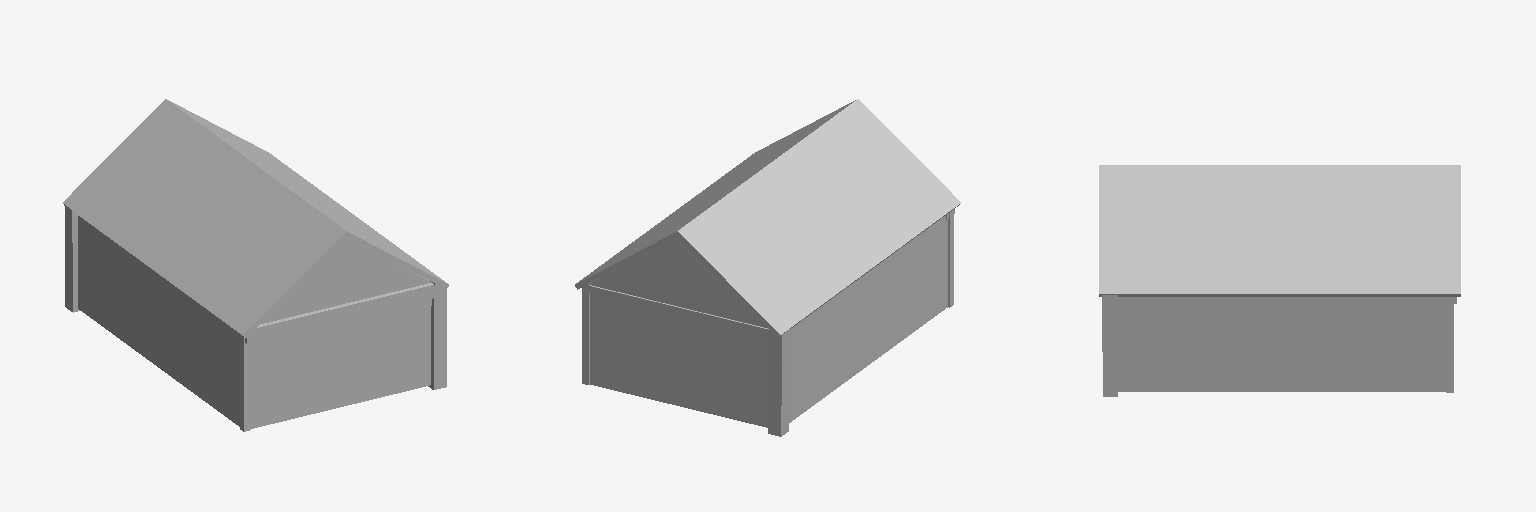
The model's file is house_2.obj.
3 views of the same model, side by side, from view 1: azimuth 30°, elevation 25°; view 2: azimuth 150°, elevation 25°; view 3: azimuth 270°, elevation 25° (orthographic).
Parts seen in each view (by area): view 1: Cube.002_Cube.195; view 2: Cube.002_Cube.195; view 3: Cube.002_Cube.195.
Part boxes in pixels (bbox=[...]): Cube.002_Cube.195: bbox=[63, 99, 448, 431]; Cube.002_Cube.195: bbox=[575, 99, 960, 436]; Cube.002_Cube.195: bbox=[1099, 165, 1460, 396].
Size of the model in its own units: 6.38 by 5.39 by 9.69.